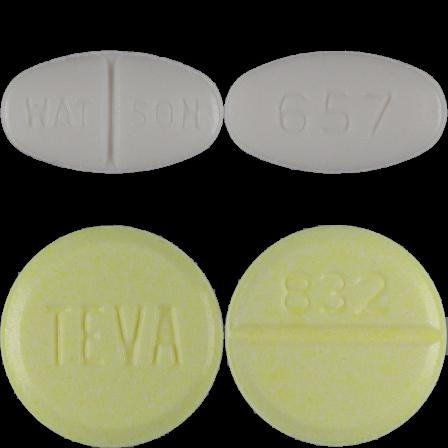21695-256: (0, 0, 224, 224)
